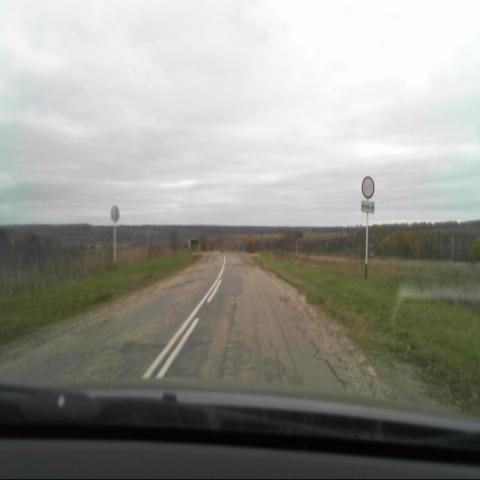3_2: (362, 177, 374, 198)
